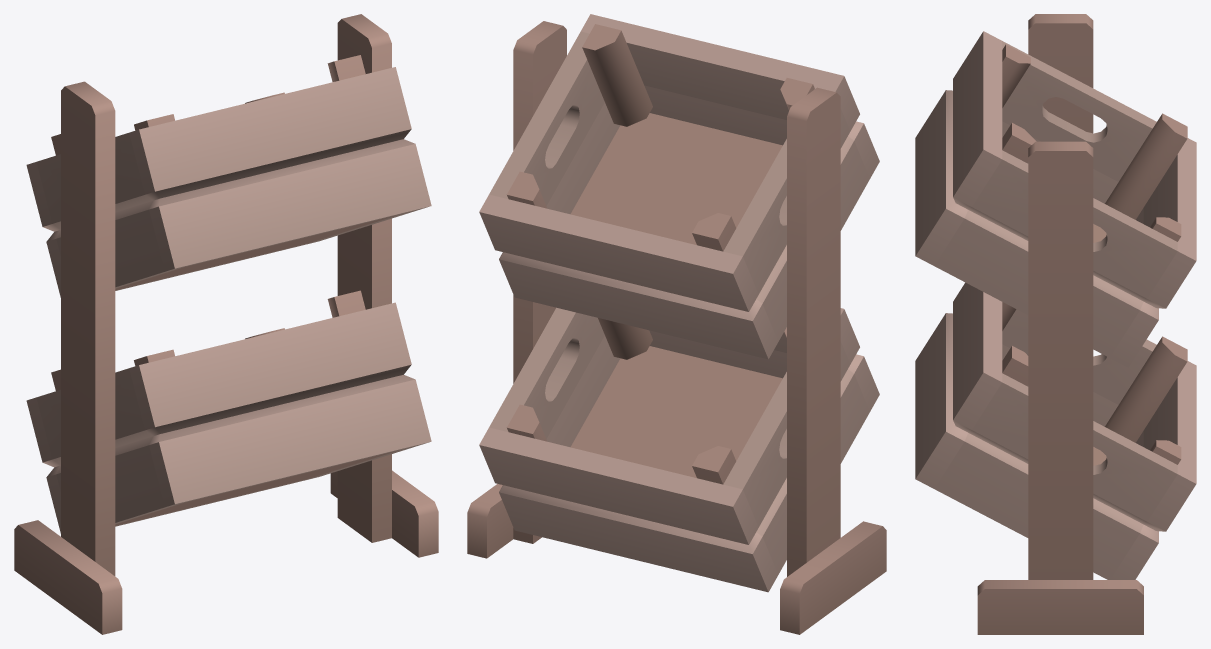
Rendered from crate-wooden-tidy-stand.glb.
3 renders of one model, left to right at view 1: azimuth 30°, elevation 25°; view 2: azimuth 150°, elevation 25°; view 3: azimuth 270°, elevation 25°, orthographic. The views are drawn at different scales.
Parts seen in each view (by area): view 1: crate-wooden-tidy-stand; view 2: crate-wooden-tidy-stand; view 3: crate-wooden-tidy-stand.
Part boxes in pixels (box(x1,y1,x2,y2)): crate-wooden-tidy-stand: box(14, 14, 438, 634); crate-wooden-tidy-stand: box(467, 14, 886, 634); crate-wooden-tidy-stand: box(915, 14, 1196, 634).
Bounding box in the file's own units: 0.5078 × 0.7242 × 0.3884.
